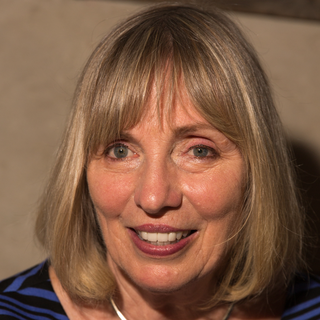eye: (95, 138, 145, 167), (175, 139, 225, 166)
